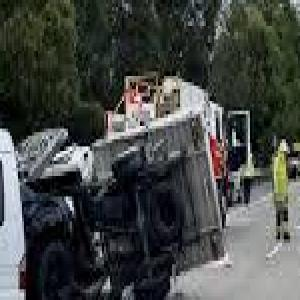serious: (10, 121, 238, 300)
